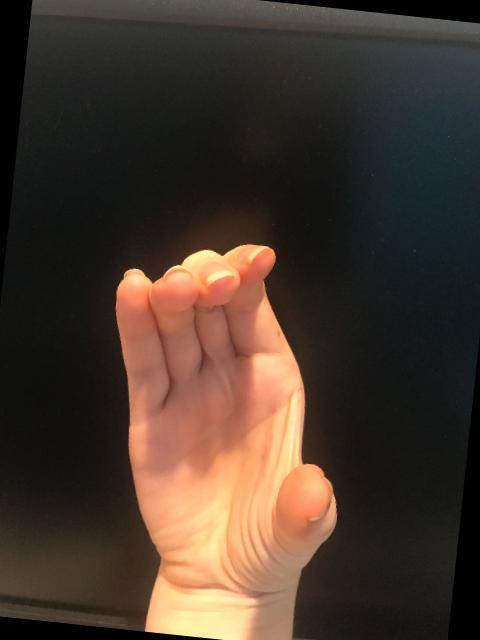C: (80, 224, 372, 612)
